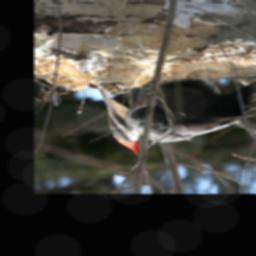Woodpecker: (99, 76, 256, 157)
